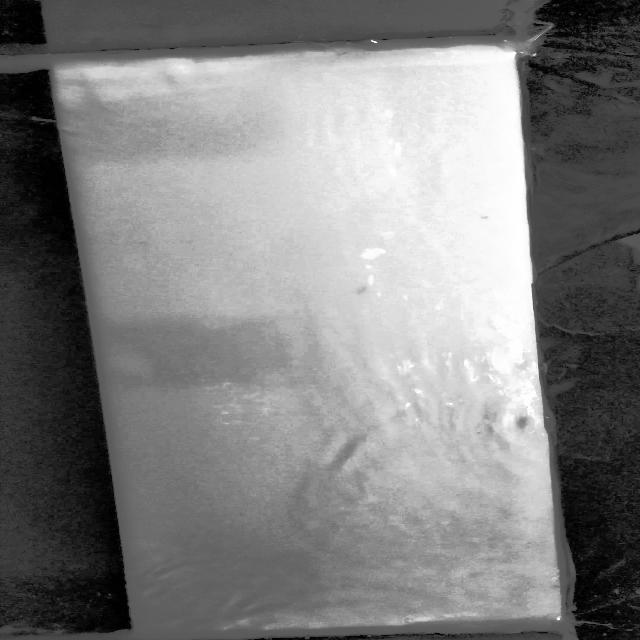shrimp: (464, 212, 497, 225), (352, 281, 380, 294)
